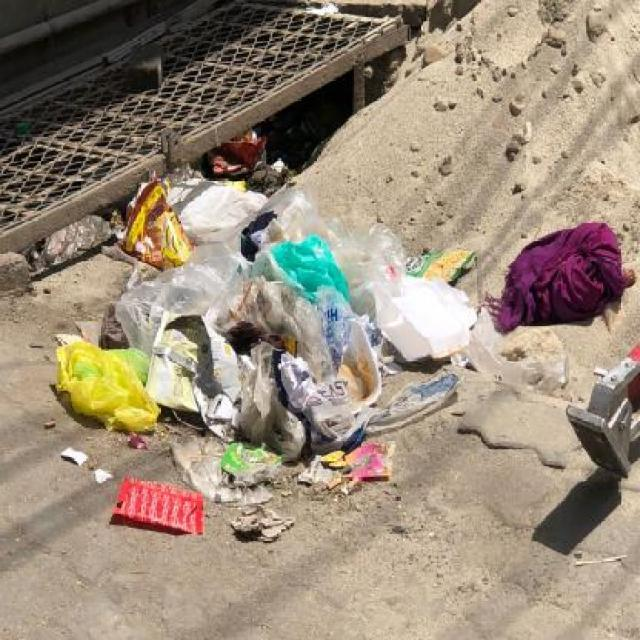garbage: (55, 139, 640, 550)
